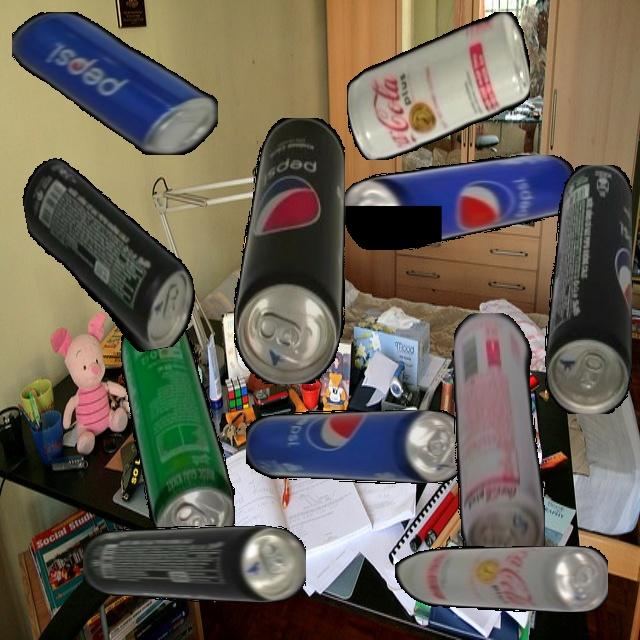debris: (17, 139, 203, 367), (233, 117, 345, 384), (12, 11, 218, 155), (120, 311, 235, 555), (346, 11, 530, 160), (453, 312, 545, 572), (344, 154, 574, 250), (544, 164, 632, 414), (82, 525, 306, 603), (245, 410, 467, 484), (394, 546, 608, 612)
